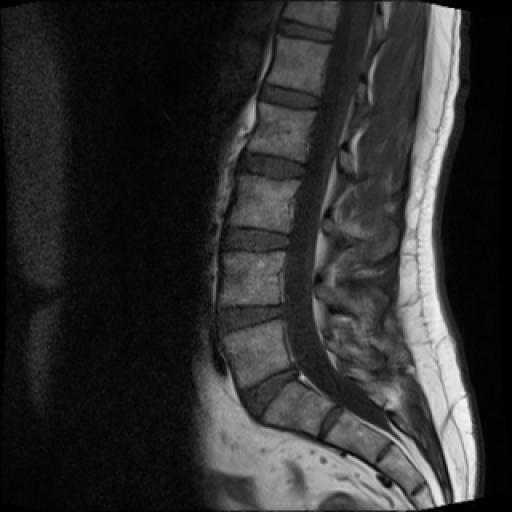L1: (267, 36, 330, 96)
L2: (248, 103, 316, 162)
L3: (230, 175, 300, 232)
L4: (221, 251, 284, 306)
L5: (224, 320, 289, 388)
S1: (262, 381, 334, 438)
